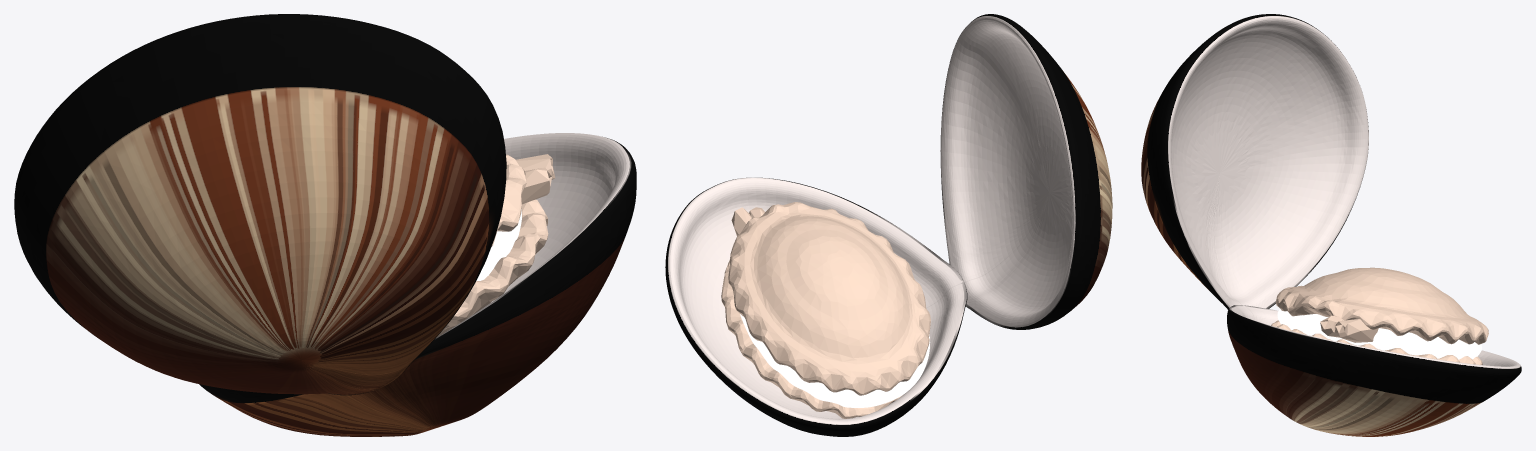
File: ham-a.glb
The picture shows the model from 3 angles, left to right: view 1: azimuth 30°, elevation 25°; view 2: azimuth 150°, elevation 25°; view 3: azimuth 270°, elevation 25°; orthographic projection. The views are drawn at different scales.
Visible parts, largest first — view 1: object; view 2: object; view 3: object.
Part boxes in pixels (box(x1,y1,x2,y2)): object: box(14, 14, 636, 436); object: box(665, 14, 1112, 436); object: box(1141, 14, 1521, 436).
Size of the model in its own units: 0.7723 by 0.6536 by 0.6484.
3 materials, 1 textured.
